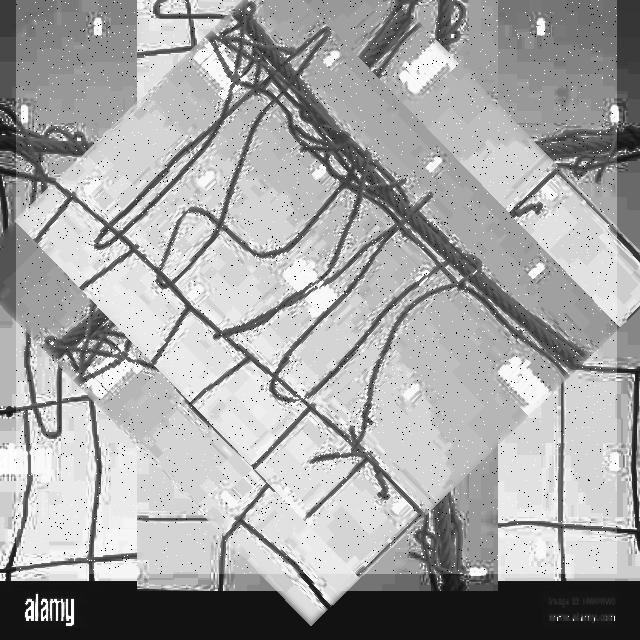anomaly-fence: (16, 0, 617, 574)
